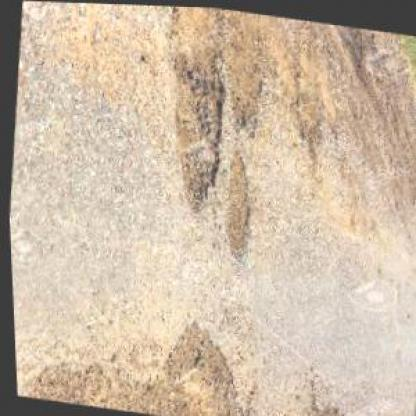pothole: (150, 44, 236, 212), (215, 150, 258, 260)
